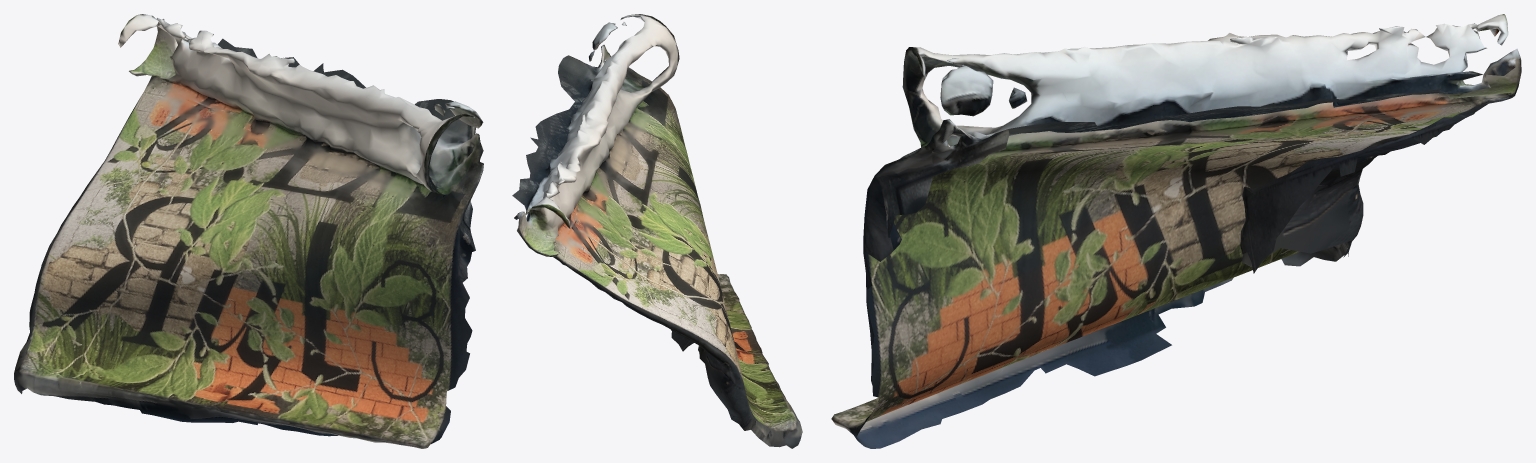
Rendered from Erangel_poster.glb.
The picture shows the model from 3 angles, left to right: view 1: azimuth 30°, elevation 25°; view 2: azimuth 150°, elevation 25°; view 3: azimuth 270°, elevation 25°; orthographic projection. The views are drawn at different scales.
Visible parts, largest first — view 1: Erangel poster; view 2: Erangel poster; view 3: Erangel poster.
Part boxes in pixels (x1=…): Erangel poster: x1=14, y1=14, x2=483, y2=448; Erangel poster: x1=512, y1=14, x2=802, y2=448; Erangel poster: x1=831, y1=14, x2=1521, y2=448.
Bounding box in the file's own units: 1.34 × 1.14 × 1.61.
1 material, 1 textured.
